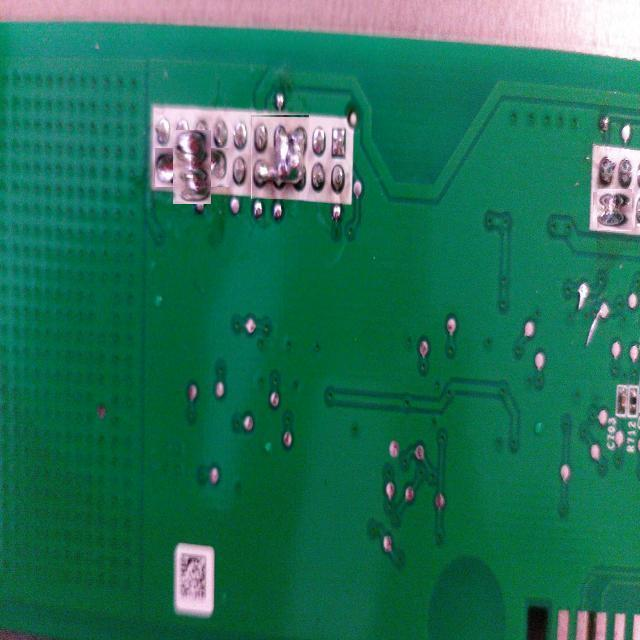Short_circuit: (251, 116, 309, 200), (164, 139, 220, 196), (595, 191, 634, 229)
